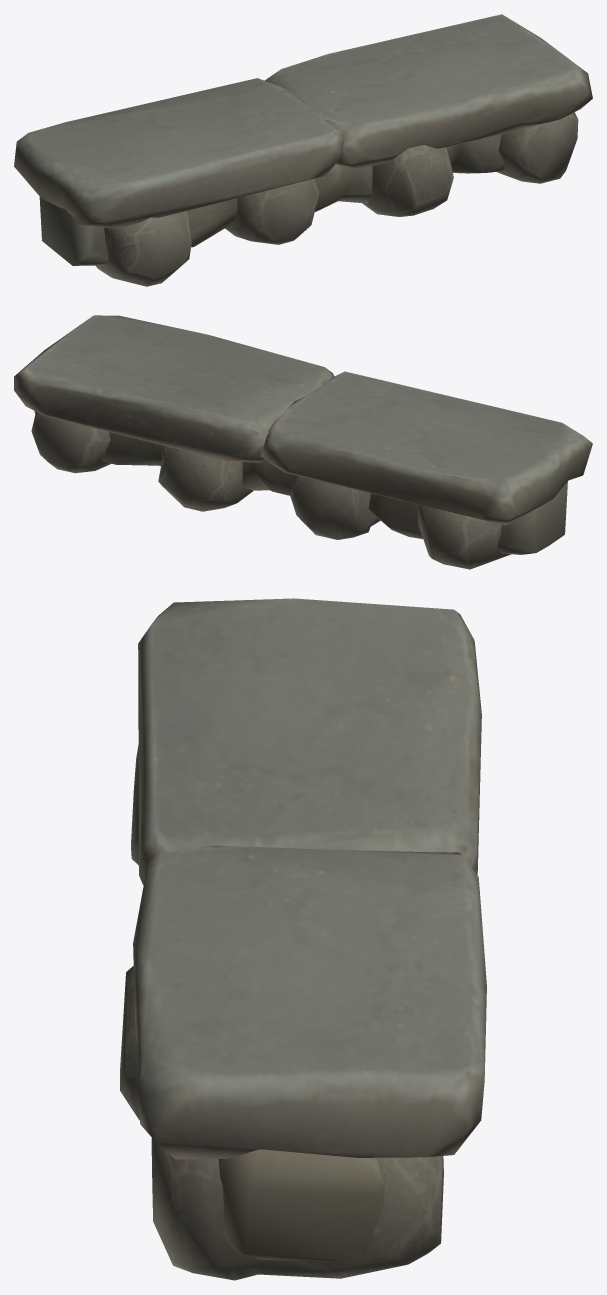
The model's file is SM_FW01_Ruins_Int_Trim_A_2m_01.fbx.
The picture shows the model from 3 angles, top to bottom: view 1: azimuth 30°, elevation 25°; view 2: azimuth 150°, elevation 25°; view 3: azimuth 270°, elevation 25°; orthographic projection. The views are drawn at different scales.
Parts seen in each view (by area): view 1: SM_FW01_Ruins_Int_Trim_A_2m_01_LOD0; view 2: SM_FW01_Ruins_Int_Trim_A_2m_01_LOD0; view 3: SM_FW01_Ruins_Int_Trim_A_2m_01_LOD0.
Boxes of the visible parts, x1,y1,x2,y2 form: SM_FW01_Ruins_Int_Trim_A_2m_01_LOD0: [14, 14, 592, 286]; SM_FW01_Ruins_Int_Trim_A_2m_01_LOD0: [14, 315, 592, 569]; SM_FW01_Ruins_Int_Trim_A_2m_01_LOD0: [120, 598, 486, 1280].
Size of what is drawn, in the model's own units: 2.06 by 0.4288 by 0.6407.
